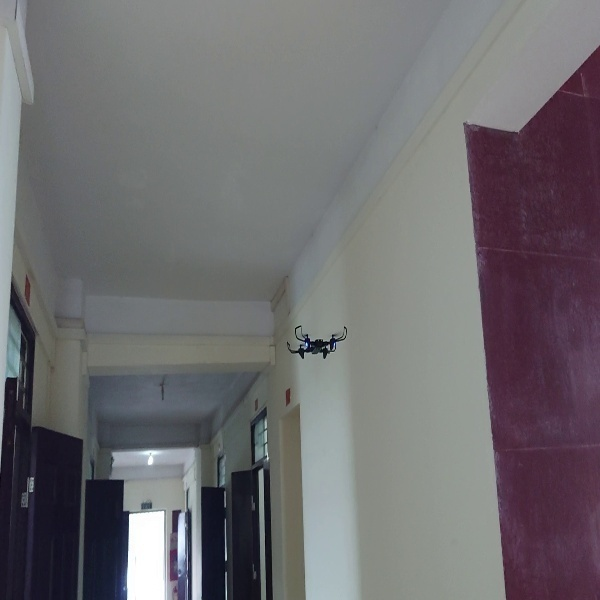drone: (283, 321, 349, 361)
